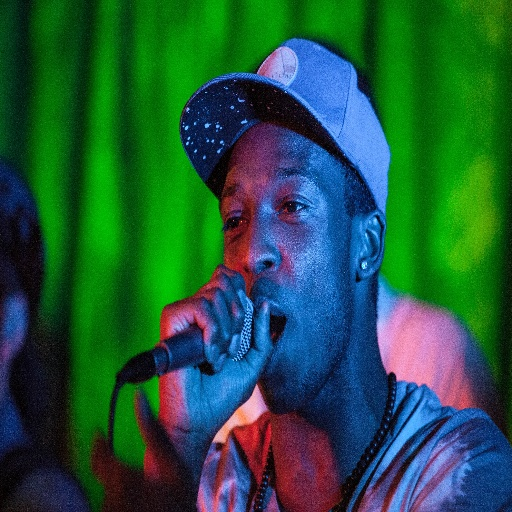hand: (87, 388, 194, 511), (132, 296, 248, 396)
